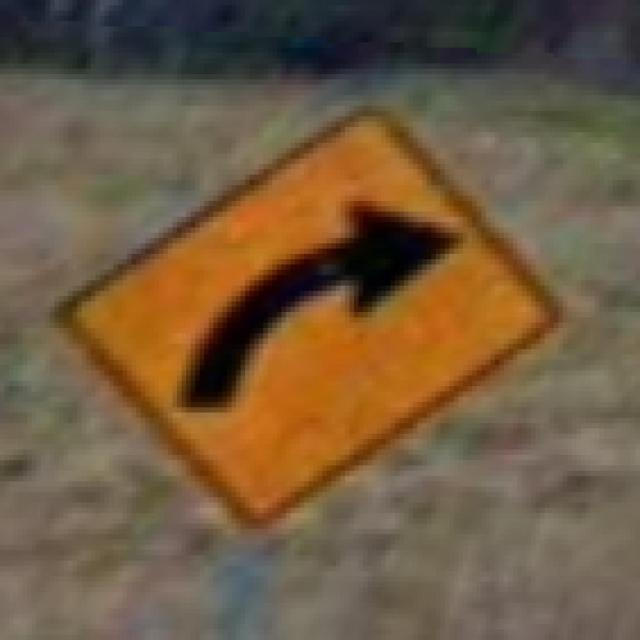Tikungan Ke Kanan: (36, 84, 568, 545)
